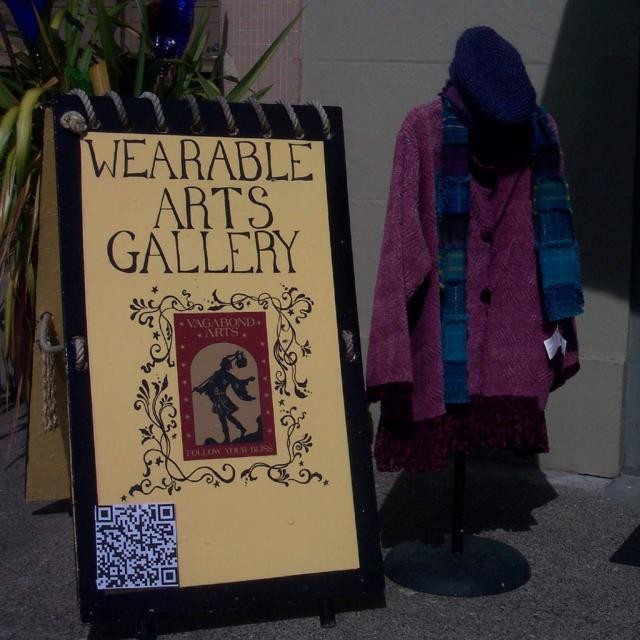qr-code: (96, 503, 178, 588)
